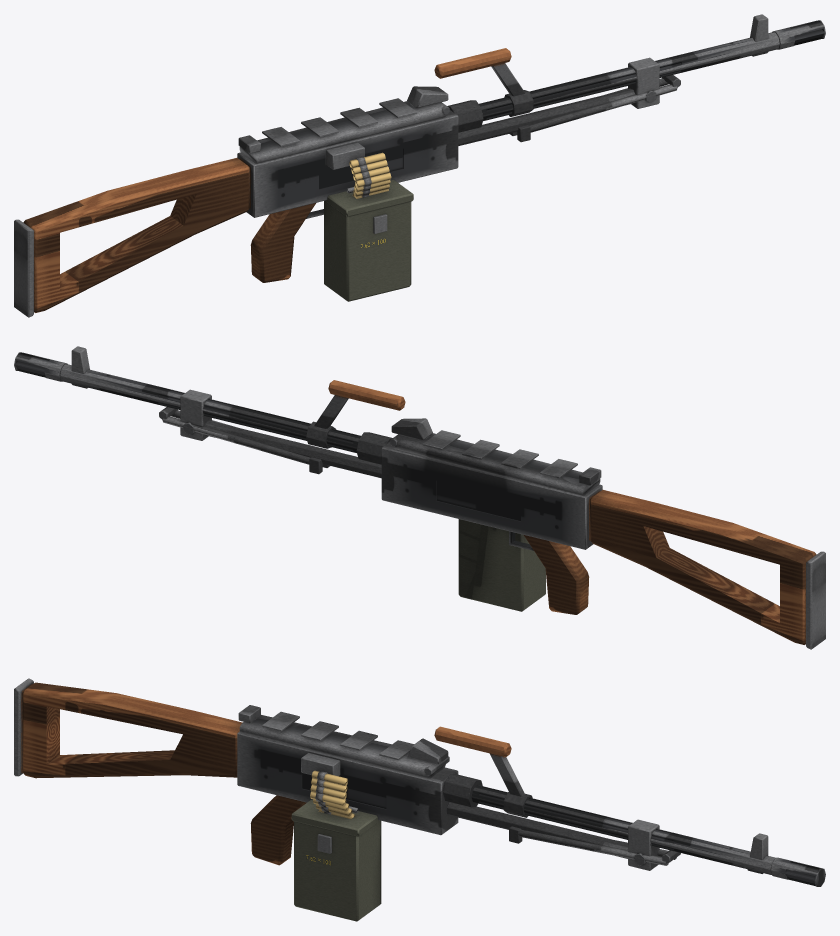
File: type80.gltf
The picture shows the model from 3 angles, top to bottom: view 1: azimuth 30°, elevation 25°; view 2: azimuth 150°, elevation 25°; view 3: azimuth 330°, elevation 25°; orthographic projection.
Parts seen in each view (by area): view 1: type80; view 2: type80; view 3: type80.
Part boxes in pixels (x1,y1,x2,y2): type80: [14, 14, 825, 317]; type80: [14, 346, 825, 649]; type80: [14, 678, 825, 921].
Size of the model in its own units: 1.23 by 0.2775 by 0.101.
1 material, 1 textured.
